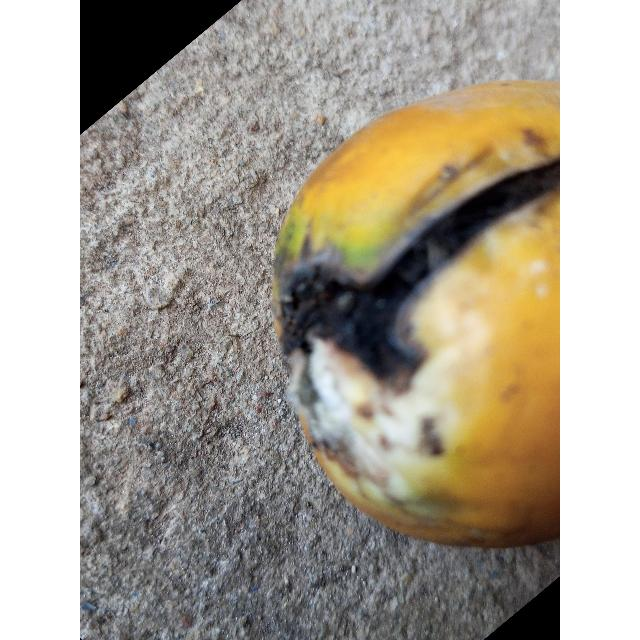damaged: (271, 80, 560, 553)
